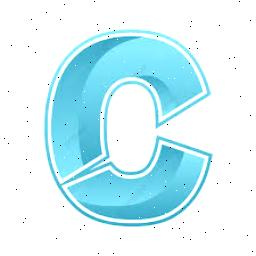c: (40, 17, 214, 231)
